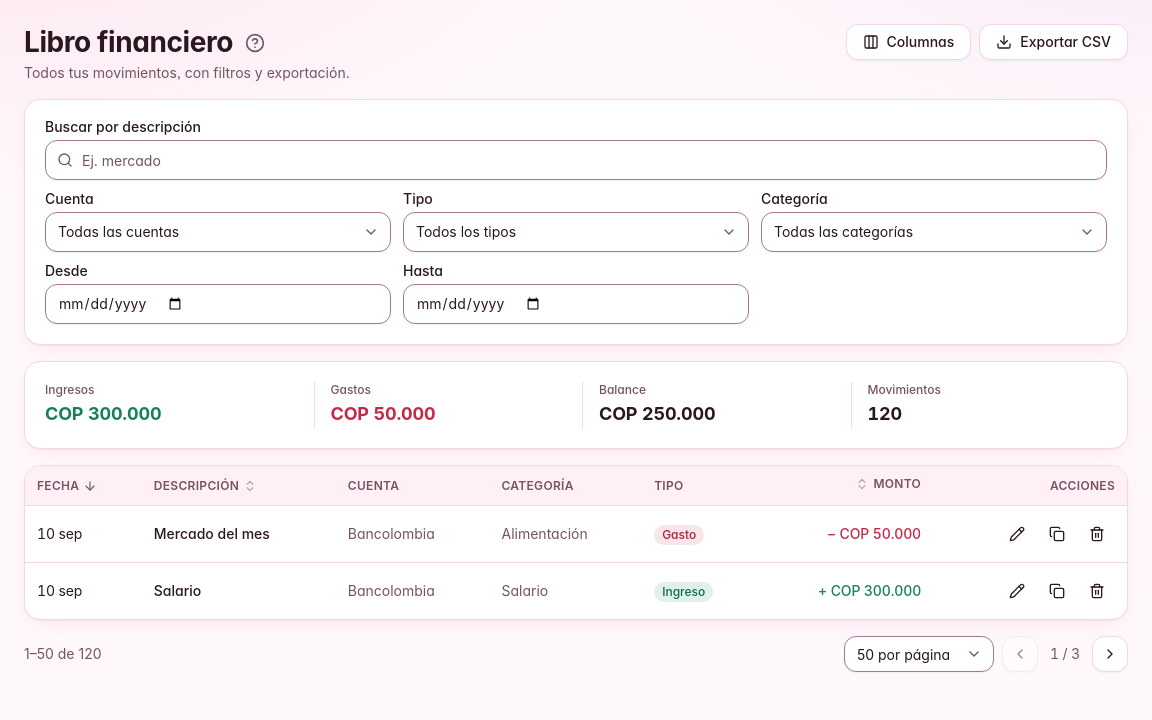
Test case: Ledger › oculta el saldo acumulado hasta que se activa la columna
This screenshot has width=1152, height=720.
Expected: the column heading "saldo acumulado" is not shown
Click the heading "Columnas" at (908, 42), box x1=846 y1=24 x2=971 y2=60
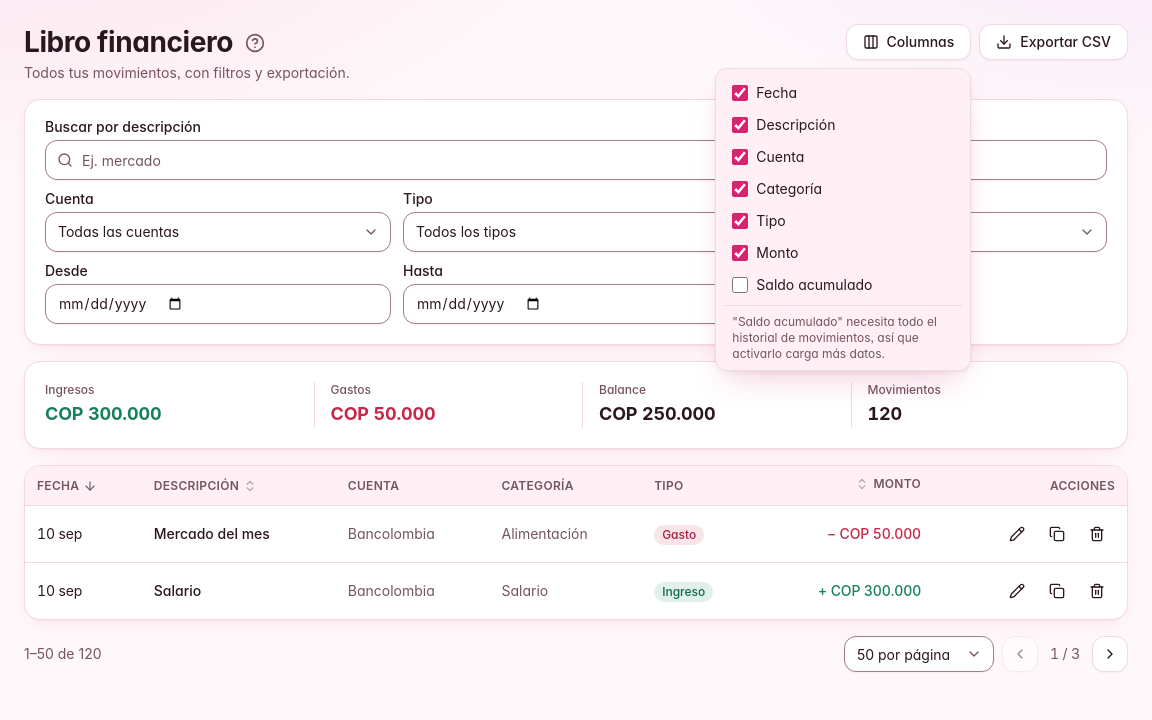
Click the checkbox labelled "Saldo acumulado" at (740, 285), box x1=732 y1=277 x2=748 y2=293
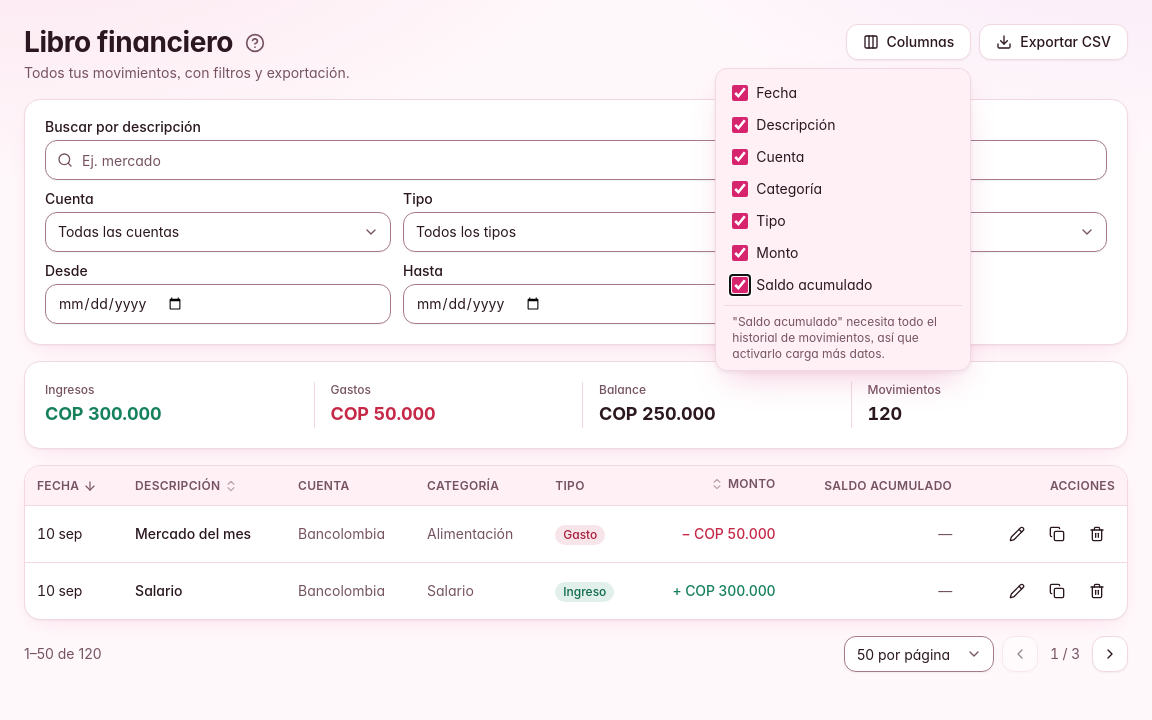
Now the column heading "Saldo acumulado" is shown, box x1=788 y1=466 x2=964 y2=506
